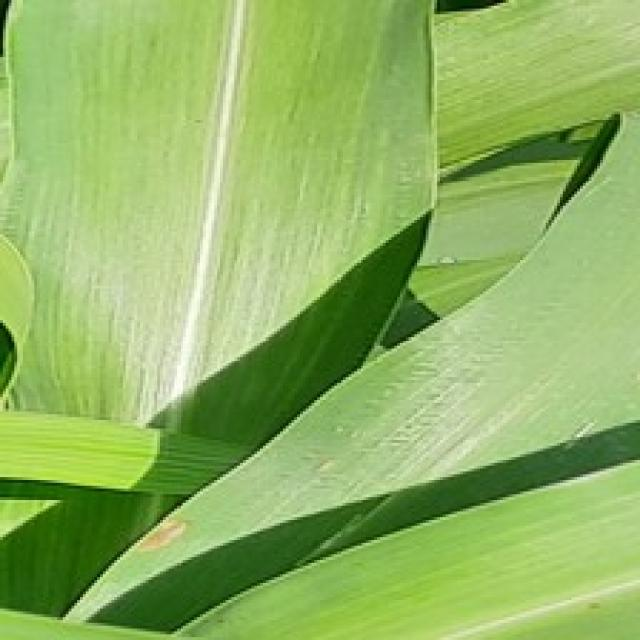Corn: (0, 0, 637, 637), (0, 0, 440, 449)
